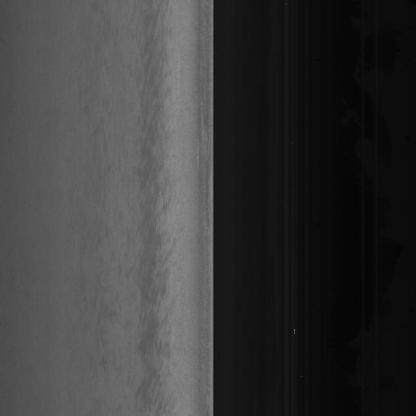silk_spot: (148, 161, 180, 254)
